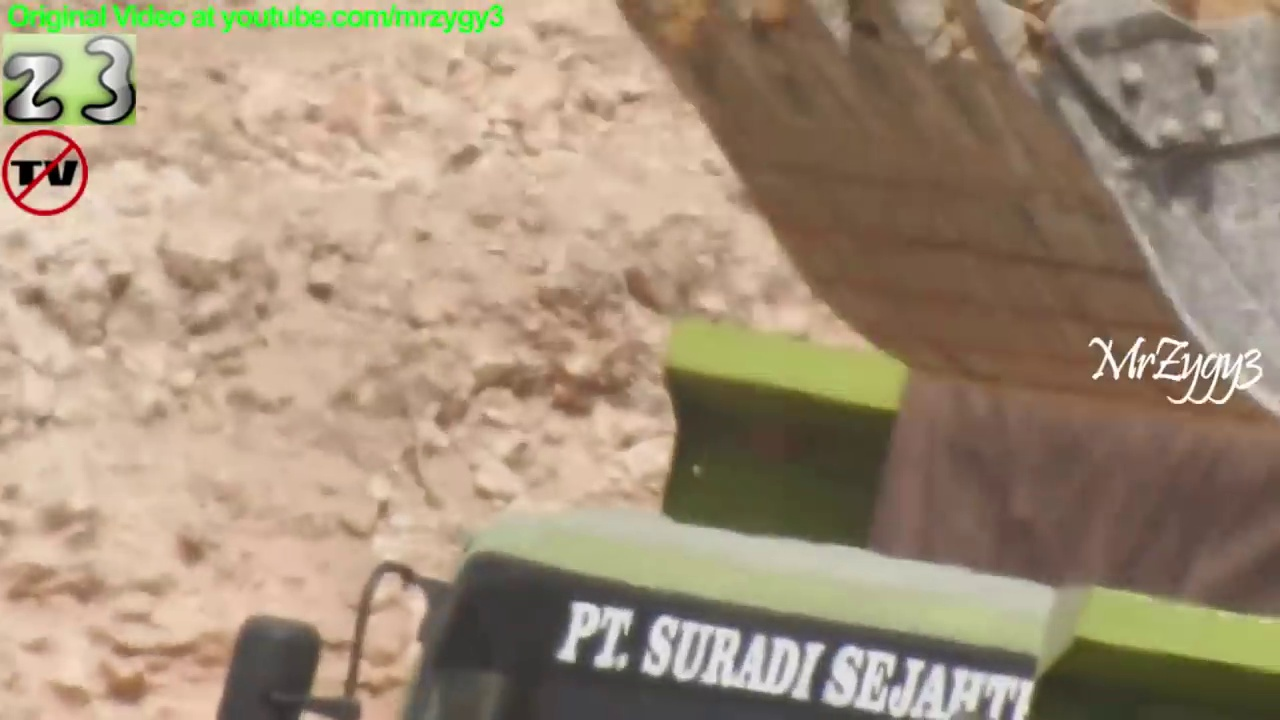excavator: (610, 1, 1280, 431)
truck: (207, 310, 1280, 720)
